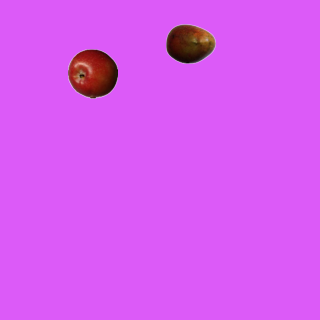Apple Braeburn: (67, 48, 117, 98)
Mango Red: (165, 18, 215, 68)
